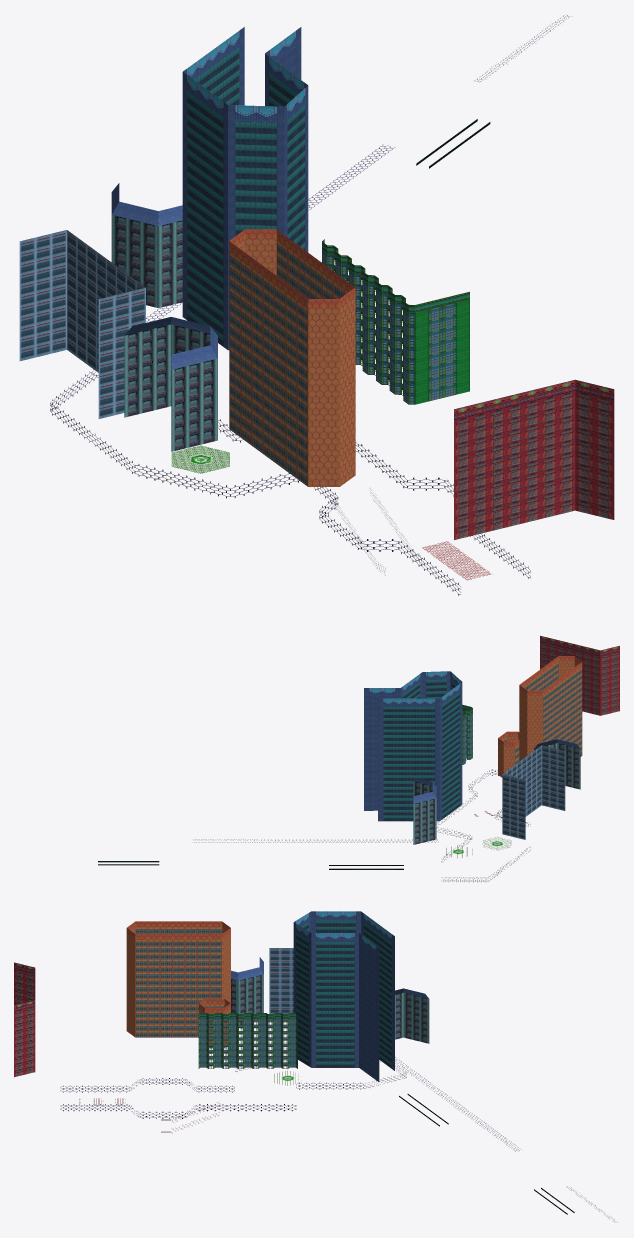
The picture shows the model from 3 angles, top to bottom: view 1: azimuth 30°, elevation 25°; view 2: azimuth 150°, elevation 25°; view 3: azimuth 270°, elevation 25°; orthographic projection. The views are drawn at different scales.
Visible parts, largest first — view 1: s03_pn_04_12, s03_pn_04_5, s03_pn_04_10, s03_pn_04_13, s03_pn_04_14, s03_pn_04_6, s03_pn_04_8, s03_pn_04_3, s03_pn_04_0, s03_pn_04_7, s03_pn_04_9, s03_pn_04_2 (+5 smaller); view 2: s03_pn_04_5, s03_pn_04_6, s03_pn_04_13, s03_pn_04_10, s03_pn_04_12, s03_pn_04_8, s03_pn_04_14, s03_pn_04_7, s03_pn_04_9, s03_pn_04_0, s03_pn_04_11, s03_pn_04_3 (+1 smaller); view 3: s03_pn_04_5, s03_pn_04_10, s03_pn_04_6, s03_pn_04_3, s03_pn_04_14, s03_pn_04_12, s03_pn_04_0, s03_pn_04_9, s03_pn_04_8, s03_pn_04_13, s03_pn_04_1, s03_pn_04_7 (+1 smaller).
Part boxes in pixels (bbox=[...]): s03_pn_04_12: bbox=[454, 390, 614, 539]; s03_pn_04_5: bbox=[187, 47, 305, 346]; s03_pn_04_10: bbox=[229, 241, 347, 486]; s03_pn_04_13: bbox=[19, 230, 145, 418]; s03_pn_04_14: bbox=[111, 215, 217, 451]; s03_pn_04_6: bbox=[111, 27, 308, 369]; s03_pn_04_8: bbox=[237, 240, 355, 486]; s03_pn_04_3: bbox=[322, 250, 455, 404]; s03_pn_04_0: bbox=[50, 15, 569, 595]; s03_pn_04_7: bbox=[187, 30, 305, 122]; s03_pn_04_9: bbox=[229, 229, 355, 309]; s03_pn_04_2: bbox=[415, 300, 469, 404]; s03_pn_04_5: bbox=[383, 679, 460, 821]; s03_pn_04_6: bbox=[364, 671, 580, 821]; s03_pn_04_13: bbox=[502, 745, 565, 839]; s03_pn_04_10: bbox=[502, 662, 582, 764]; s03_pn_04_12: bbox=[540, 641, 619, 715]; s03_pn_04_8: bbox=[498, 661, 578, 777]; s03_pn_04_14: bbox=[413, 743, 580, 844]; s03_pn_04_7: bbox=[369, 671, 460, 706]; s03_pn_04_9: bbox=[498, 656, 582, 747]; s03_pn_04_0: bbox=[194, 769, 530, 882]; s03_pn_04_11: bbox=[540, 635, 619, 655]; s03_pn_04_3: bbox=[462, 709, 472, 764]; s03_pn_04_5: bbox=[296, 920, 391, 1068]; s03_pn_04_10: bbox=[135, 927, 224, 1048]; s03_pn_04_6: bbox=[231, 911, 428, 1081]; s03_pn_04_3: bbox=[198, 1017, 297, 1068]; s03_pn_04_14: bbox=[231, 974, 429, 1043]; s03_pn_04_12: bbox=[14, 968, 35, 1077]; s03_pn_04_0: bbox=[60, 1054, 614, 1221]; s03_pn_04_9: bbox=[126, 921, 230, 1013]; s03_pn_04_8: bbox=[126, 928, 230, 1047]; s03_pn_04_13: bbox=[269, 948, 293, 1013]; s03_pn_04_1: bbox=[208, 1018, 287, 1068]; s03_pn_04_7: bbox=[296, 911, 391, 953].
Size of the model in its own units: 5040 by 2300 by 6105.
